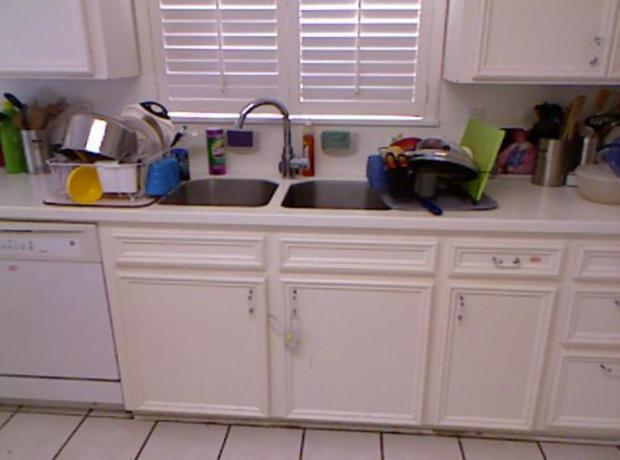Lavaplatos: (159, 86, 422, 225)
